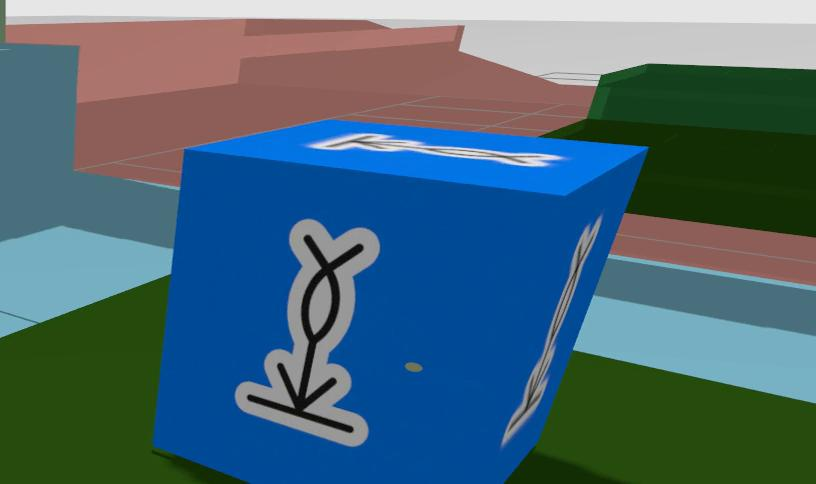KFS_REAL: (152, 119, 645, 484), (236, 220, 378, 445)
